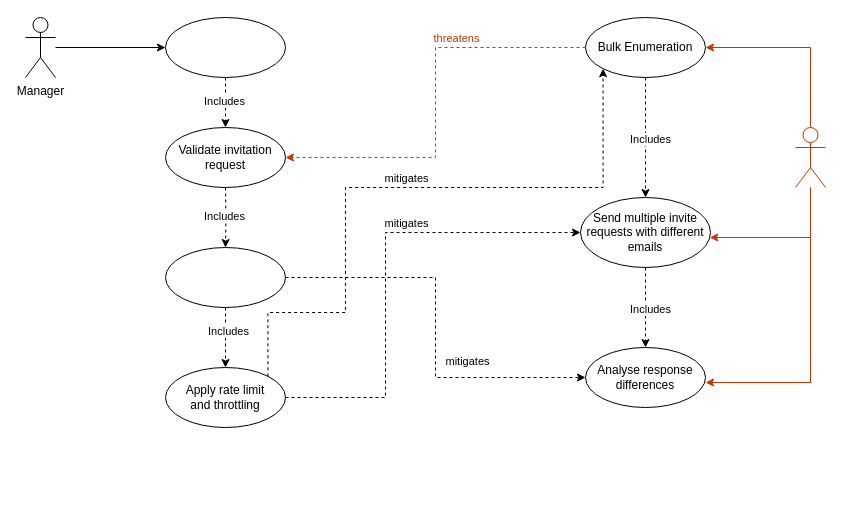
Some shapes in this 867 by 525 pixel diagram are drawn without their labels. Each missing label, with the centre of its shape:
Invite new user: pixel 225 47
Malicious User: pixel 810 157
Return generic response message: pixel 225 277
